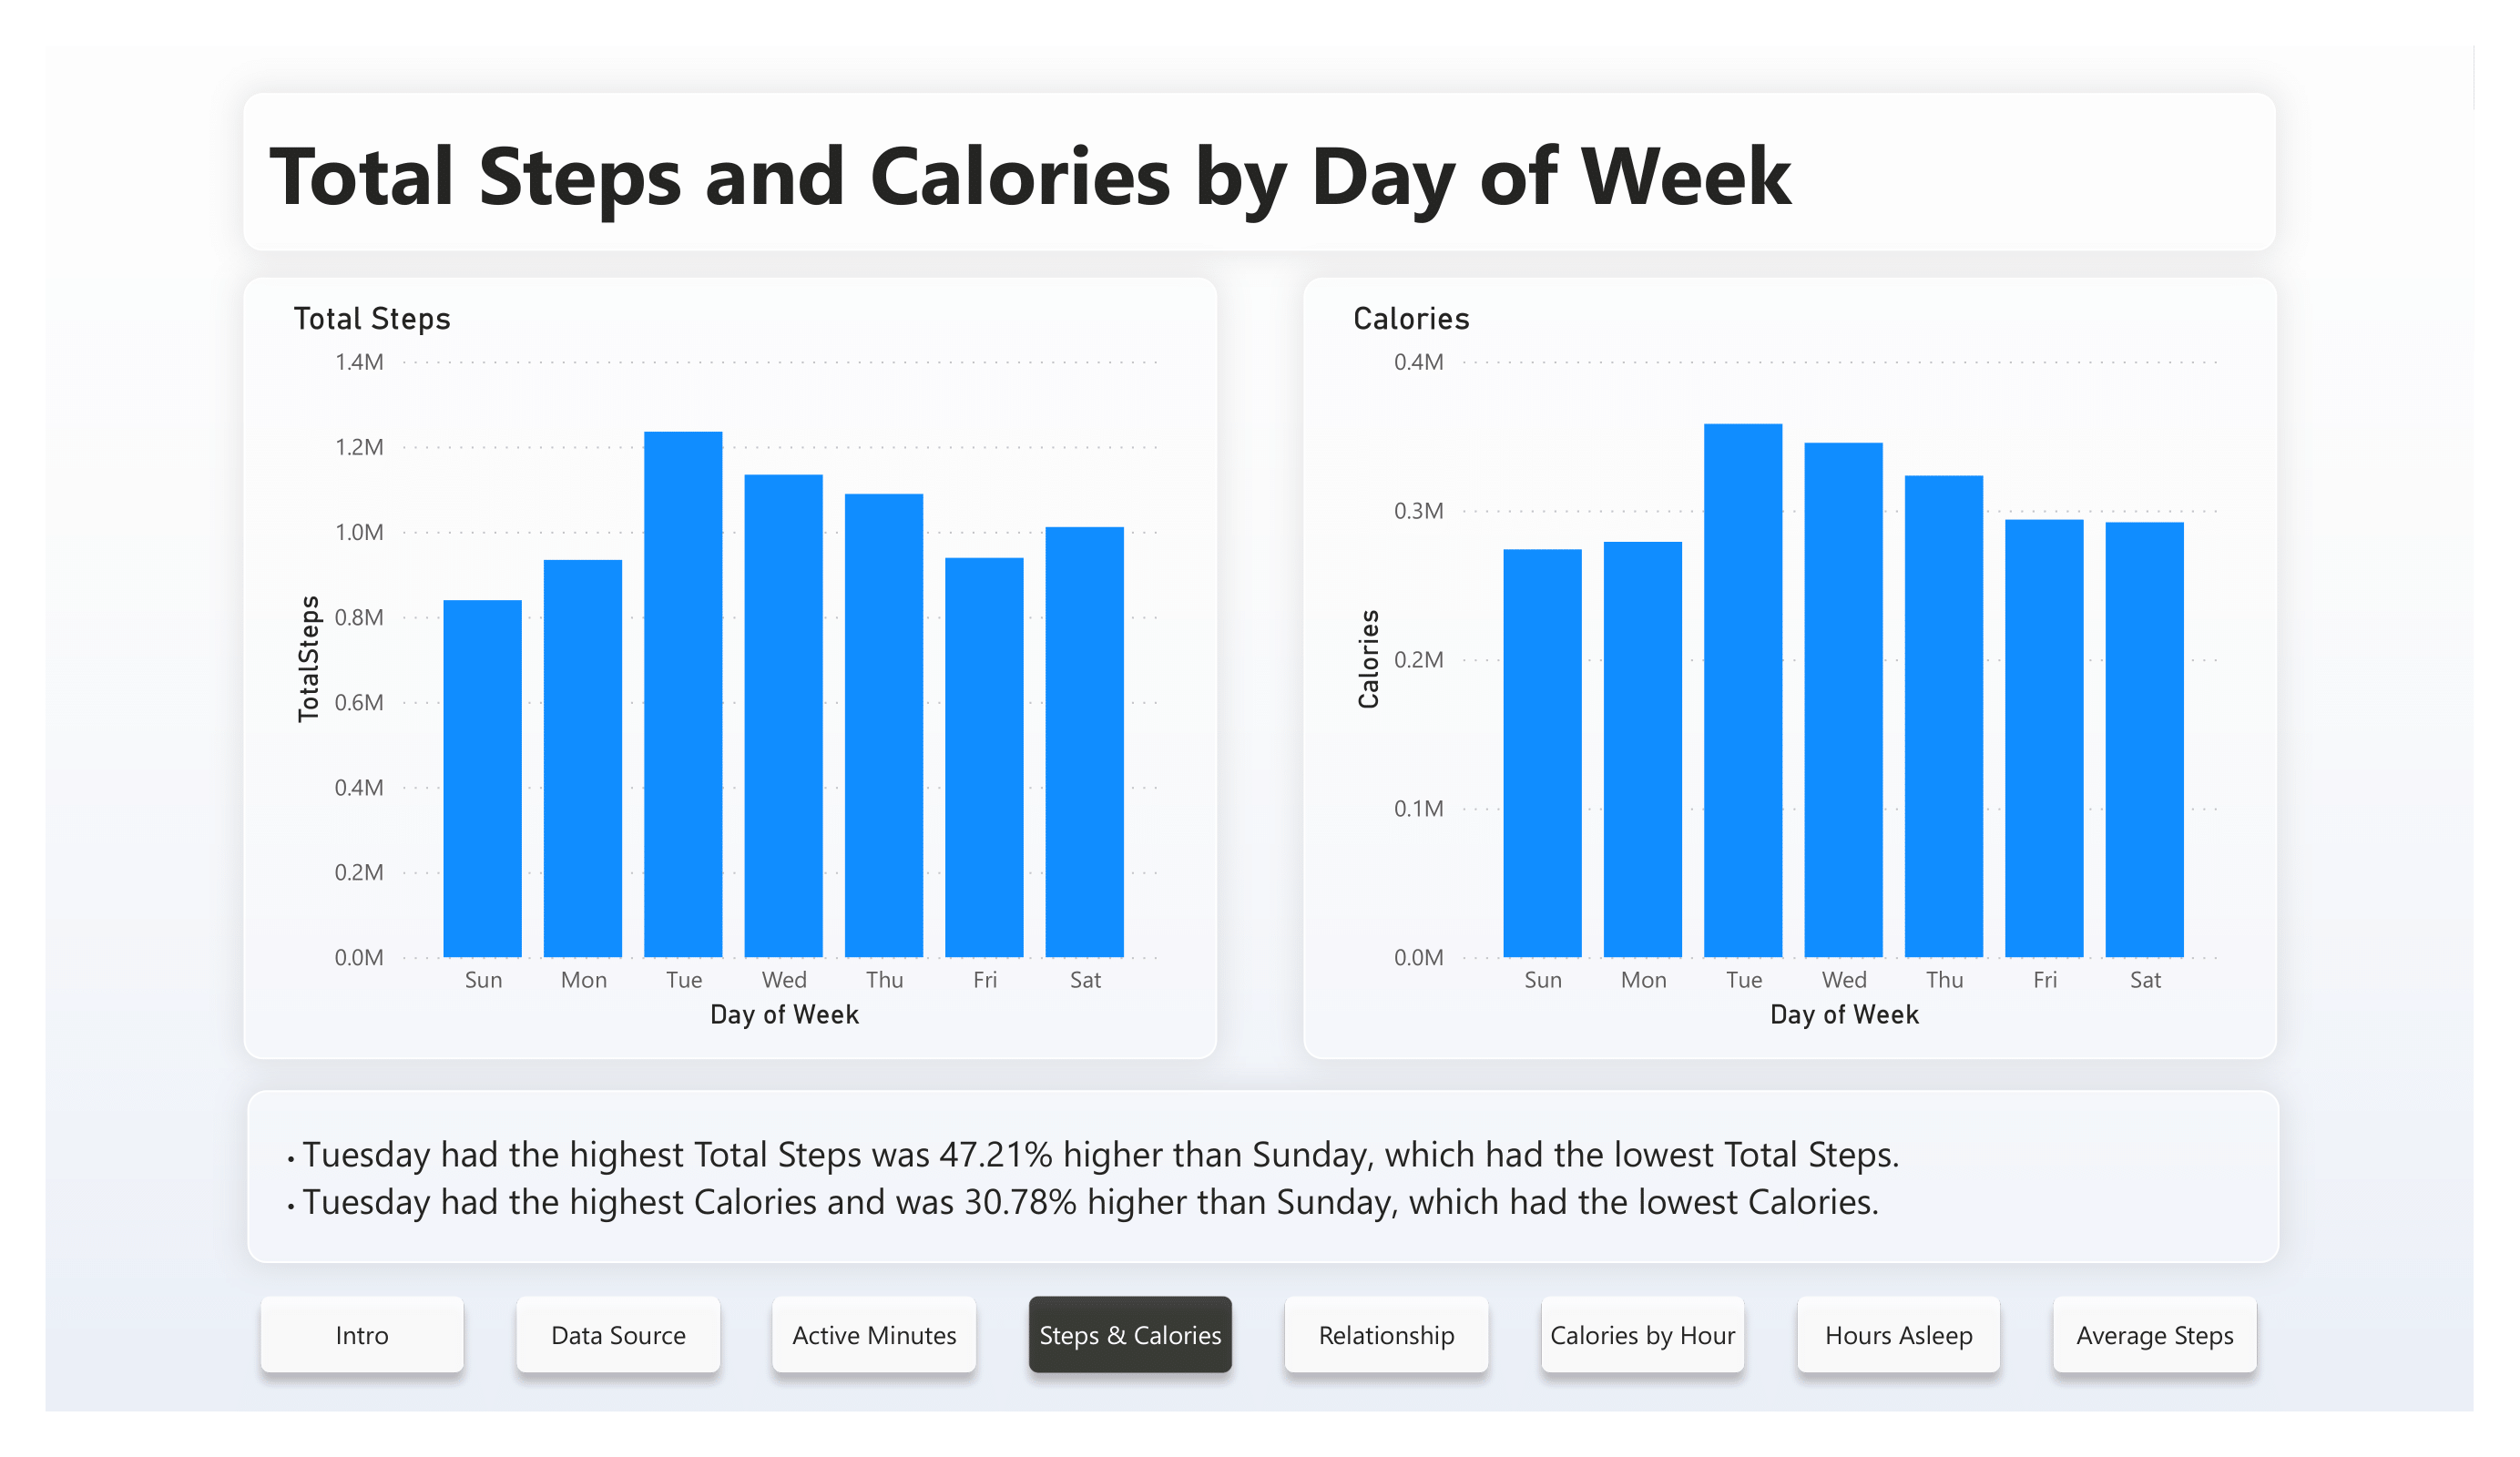

The page's visual inventory and layout, read from the dashboard file:
{"tool":"powerbi","page":{"name":"Steps & Calories","canvas":[1280,720],"ordinal":3},"visuals":[{"type":"shape","box":[662.9,122.1,512.9,412.1],"z":0},{"type":"shape","box":[104.3,122.1,512.9,412.1],"z":1000},{"type":"shape","box":[104.3,25,1071.4,82.9],"z":2000},{"type":"pageNavigator","box":[104.3,650.7,1071.4,58.6],"z":3000},{"type":"textbox","box":[112.1,32.1,1028.6,68.6],"z":4000},{"type":"shape","box":[106.4,550.7,1071.4,91.4],"z":5000},{"type":"textbox","box":[112.1,565.7,1055,61.4],"z":6000},{"type":"clusteredColumnChart","title":"Total Steps","fields":{"Category":["Date.Day of Week"],"Y":["Sum(dailyActivity_merged.TotalSteps)"]},"box":[125.7,133.6,470,390],"z":7000},{"type":"clusteredColumnChart","title":"Calories","fields":{"Category":["Date.Day of Week"],"Y":["Sum(dailyActivity_merged.Calories)"]},"box":[684.3,133.6,470,390],"z":8000}]}

Visuals, with their boxes in screenshot pixels (x1, y1, x2, y2):
shape: [x1=1303, y1=277, x2=2277, y2=1059]
shape: [x1=243, y1=277, x2=1217, y2=1059]
shape: [x1=243, y1=93, x2=2277, y2=250]
pageNavigator: [x1=243, y1=1280, x2=2277, y2=1391]
textbox: [x1=259, y1=107, x2=2210, y2=237]
shape: [x1=248, y1=1090, x2=2280, y2=1264]
textbox: [x1=259, y1=1119, x2=2260, y2=1235]
"Total Steps" clusteredColumnChart: [x1=284, y1=299, x2=1176, y2=1039]
"Calories" clusteredColumnChart: [x1=1344, y1=299, x2=2236, y2=1039]
